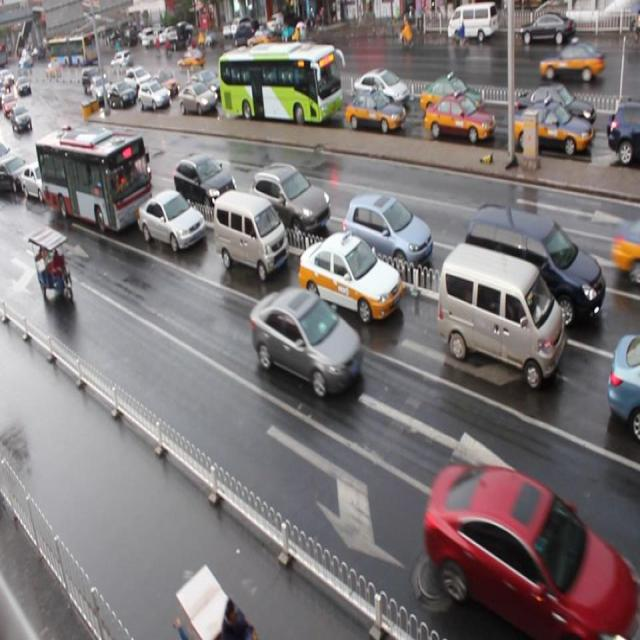car: (426, 460, 608, 640), (249, 287, 364, 399), (298, 228, 401, 322), (342, 192, 433, 276), (250, 162, 330, 234), (513, 99, 592, 157), (137, 186, 205, 251), (174, 155, 236, 212), (607, 331, 640, 437), (424, 92, 495, 141), (517, 86, 594, 130), (344, 85, 404, 133), (425, 74, 489, 119), (353, 68, 409, 109), (607, 98, 640, 160), (21, 158, 58, 202), (612, 222, 640, 275), (178, 81, 219, 117), (265, 68, 304, 103), (100, 143, 137, 179), (1, 153, 30, 193), (60, 127, 90, 163), (139, 78, 170, 112), (191, 70, 226, 99), (150, 69, 180, 97), (126, 64, 153, 91), (107, 80, 134, 106)
truck: (438, 240, 564, 388), (464, 200, 604, 329), (212, 187, 288, 279)
van: (36, 126, 154, 234), (216, 43, 340, 123)
